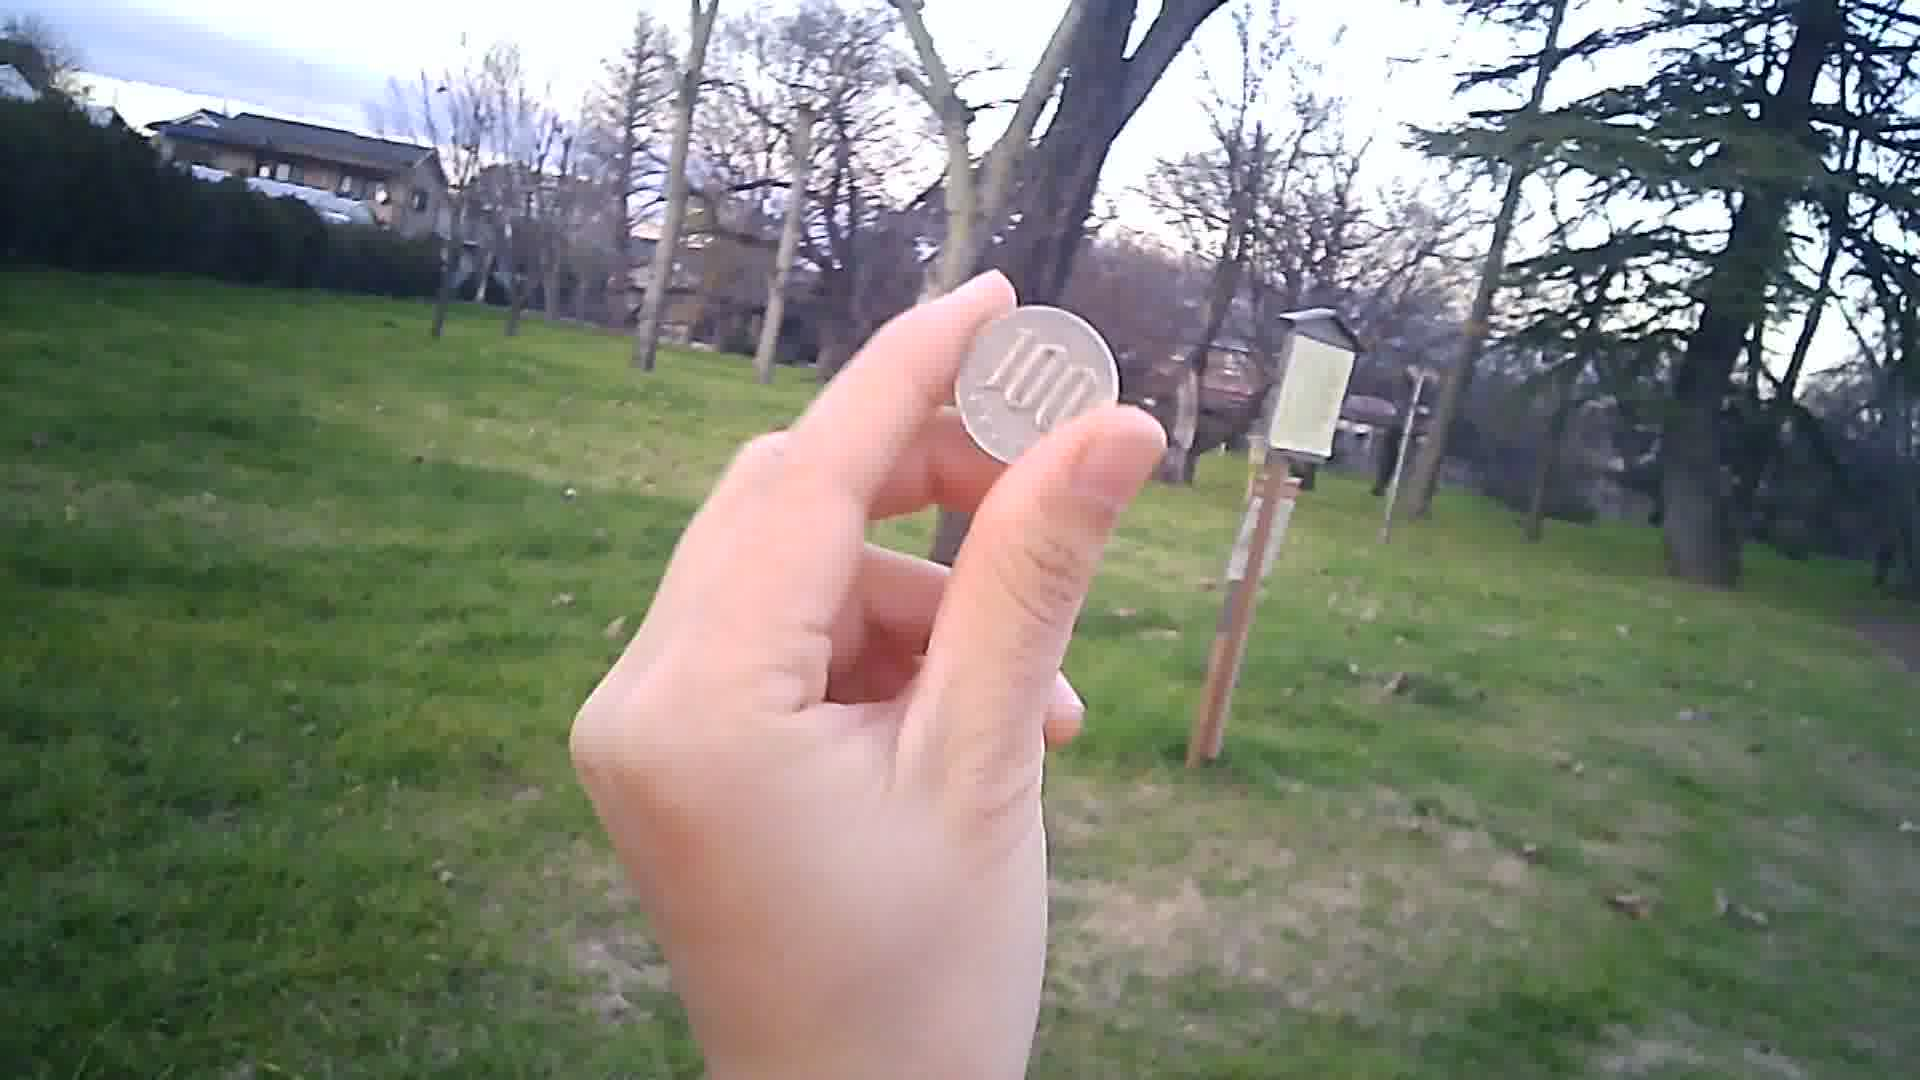100 Yen: (945, 298, 1131, 480)
